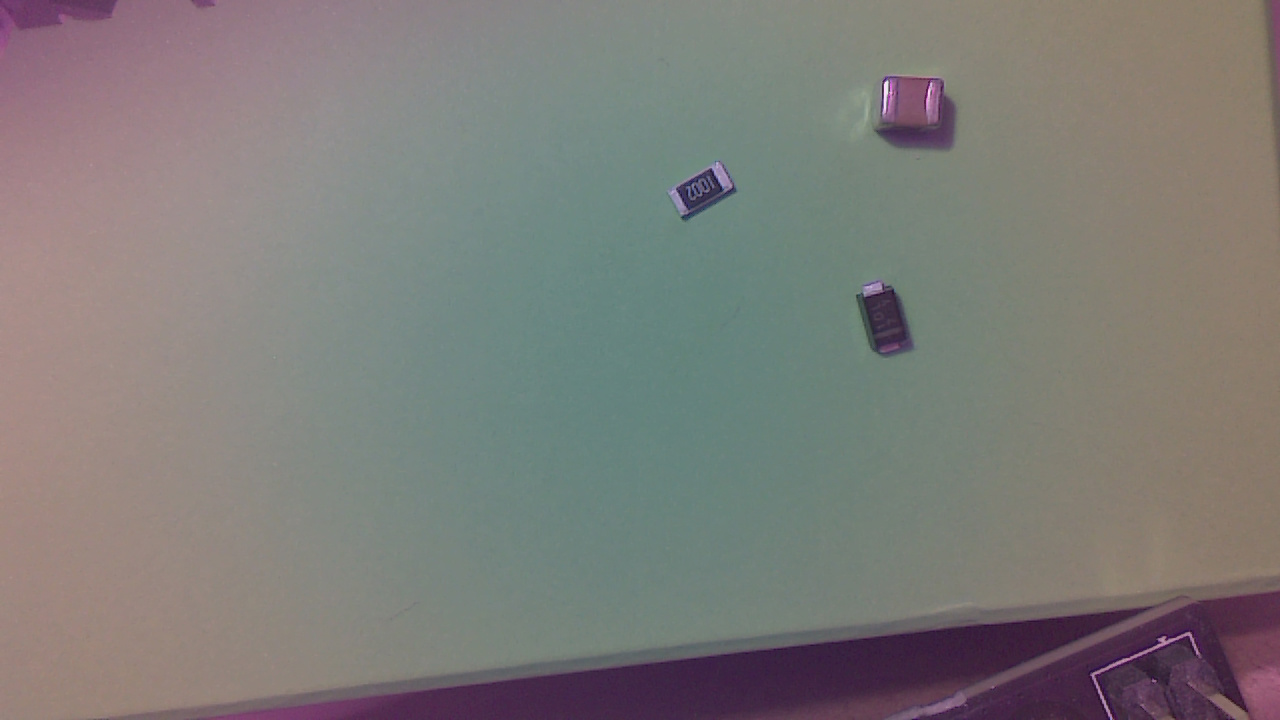Condensator: (875, 82, 949, 137)
Diode: (860, 285, 914, 363)
Resistor: (671, 168, 739, 223)
